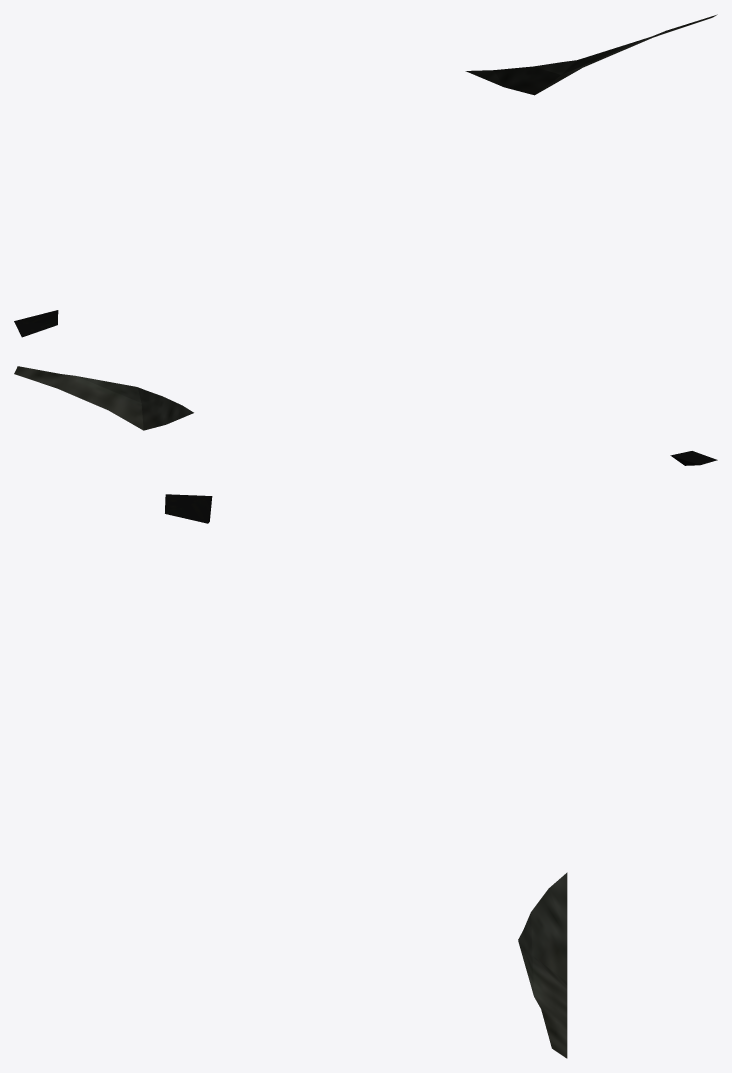
3 views of the same model, one above another, from view 1: azimuth 30°, elevation 25°; view 2: azimuth 150°, elevation 25°; view 3: azimuth 270°, elevation 25° (orthographic). The views are drawn at different scales.
Bounding box in the file's own units: 2.55 × 0.1218 × 0.7374.
Materials: 1 (1 with a texture image).
